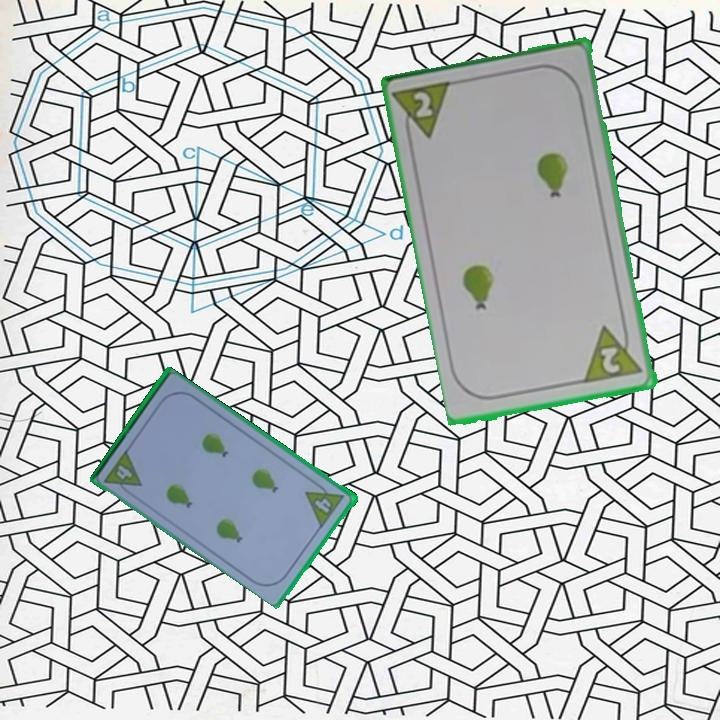2p: (392, 77, 457, 147), (582, 319, 647, 387)
4p: (302, 477, 348, 530), (101, 447, 145, 500)
